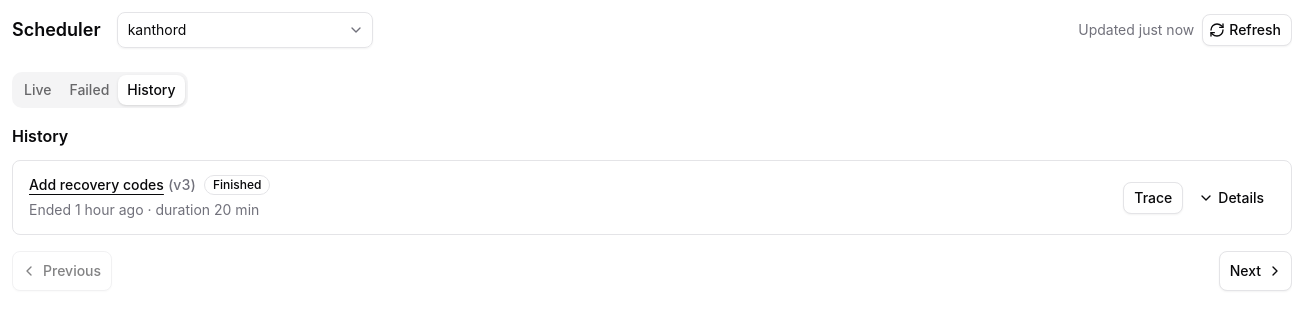
Test case: SchedulerScreen Done › pages through the ended executions of a project
Expected: the link "Add recovery codes" is shown, x1=29 y1=175 x2=164 y2=195
Click the button "Next".
click(1255, 271)  # box x1=1219 y1=251 x2=1292 y2=291
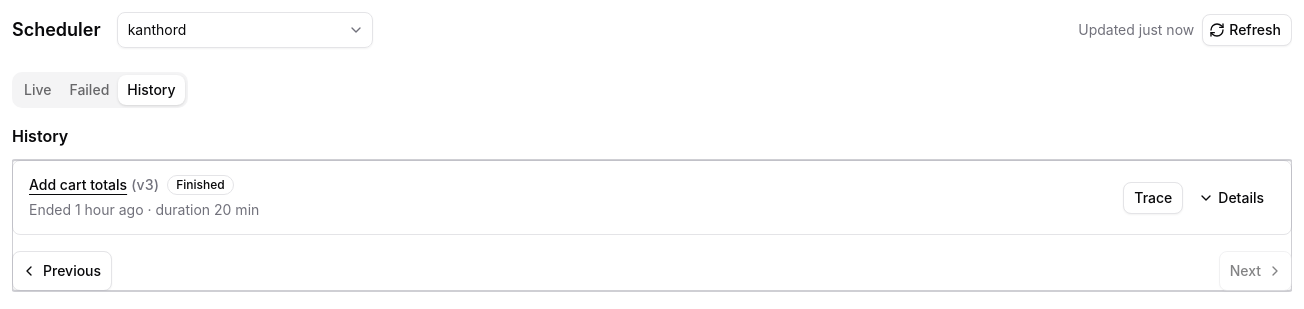
Result: the link "Add cart totals" is shown at x1=29 y1=175 x2=127 y2=195
Result: the link "Add recovery codes" is gone
Click the button "Previous".
click(62, 271)  # box x1=12 y1=251 x2=112 y2=291
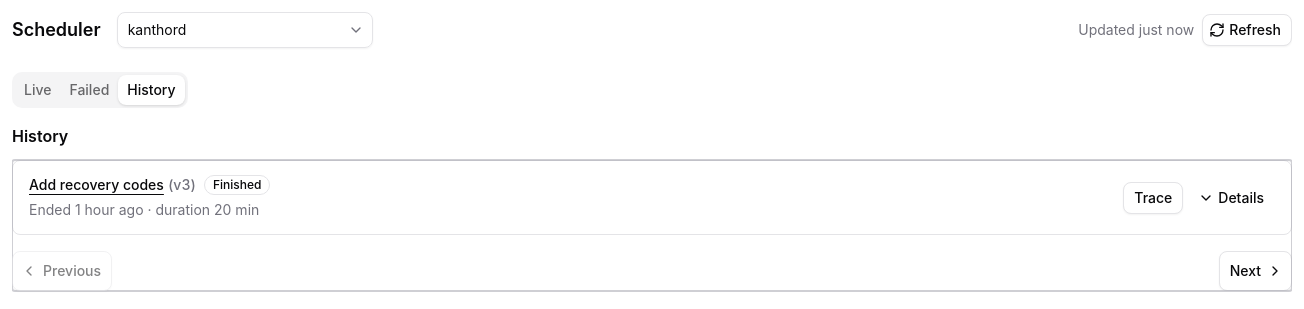
Result: the link "Add recovery codes" is shown at x1=29 y1=175 x2=164 y2=195
